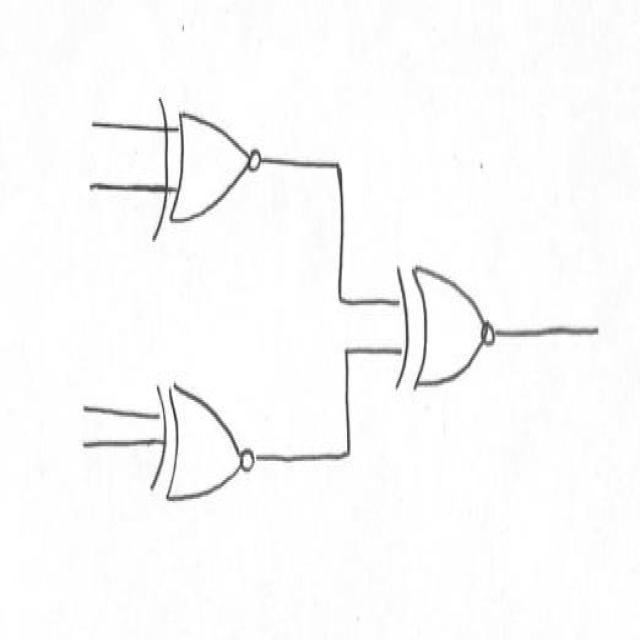XNOR: (143, 356, 278, 532), (149, 65, 270, 254), (385, 233, 506, 412)
